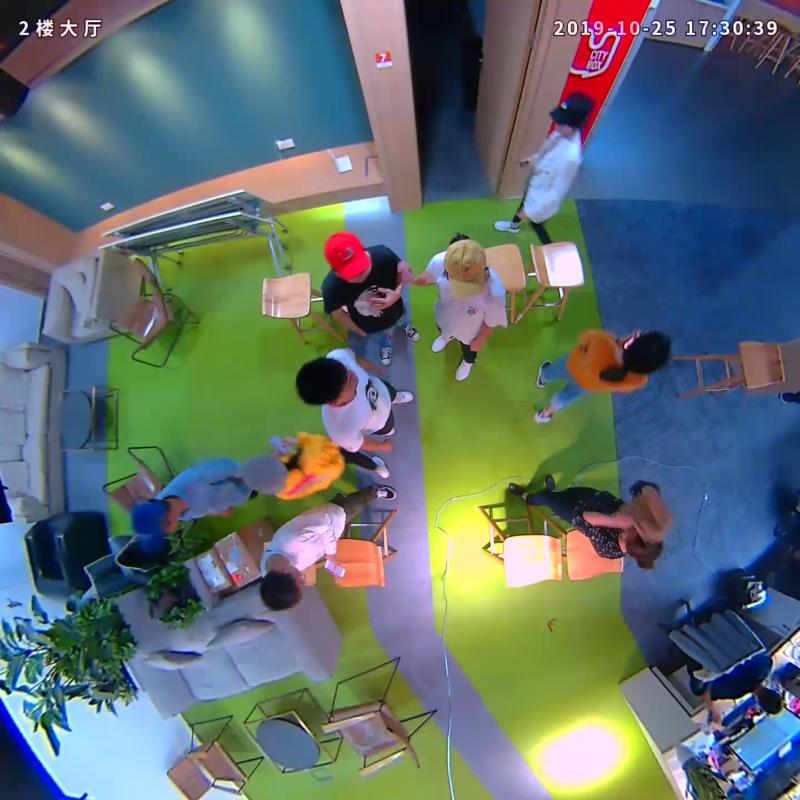head: (296, 356, 359, 405), (443, 238, 488, 302), (133, 498, 182, 552), (323, 230, 371, 282), (259, 562, 304, 611), (623, 331, 672, 375), (241, 453, 289, 497), (616, 525, 663, 569), (548, 91, 594, 135)
